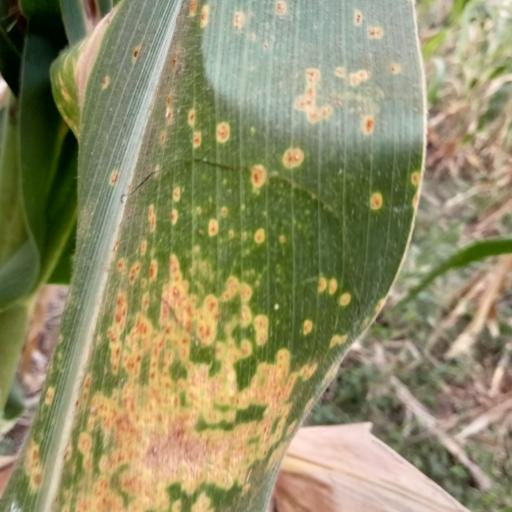Corn_Rust: (0, 2, 435, 512)
